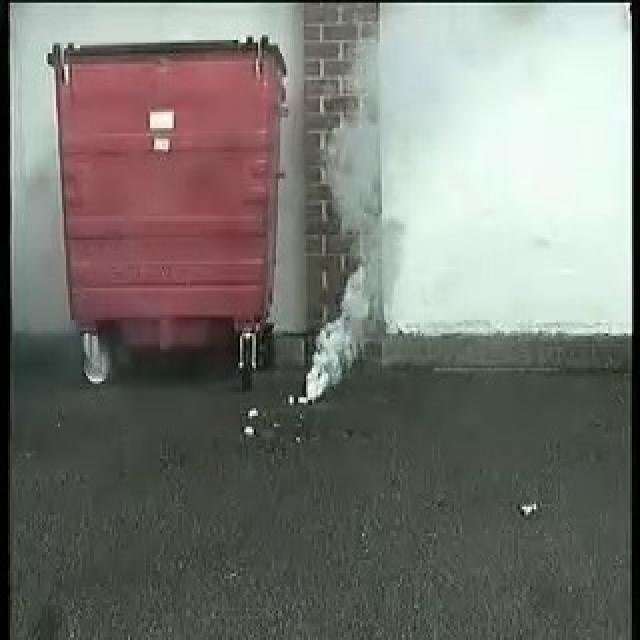smoke: (302, 136, 384, 403)
